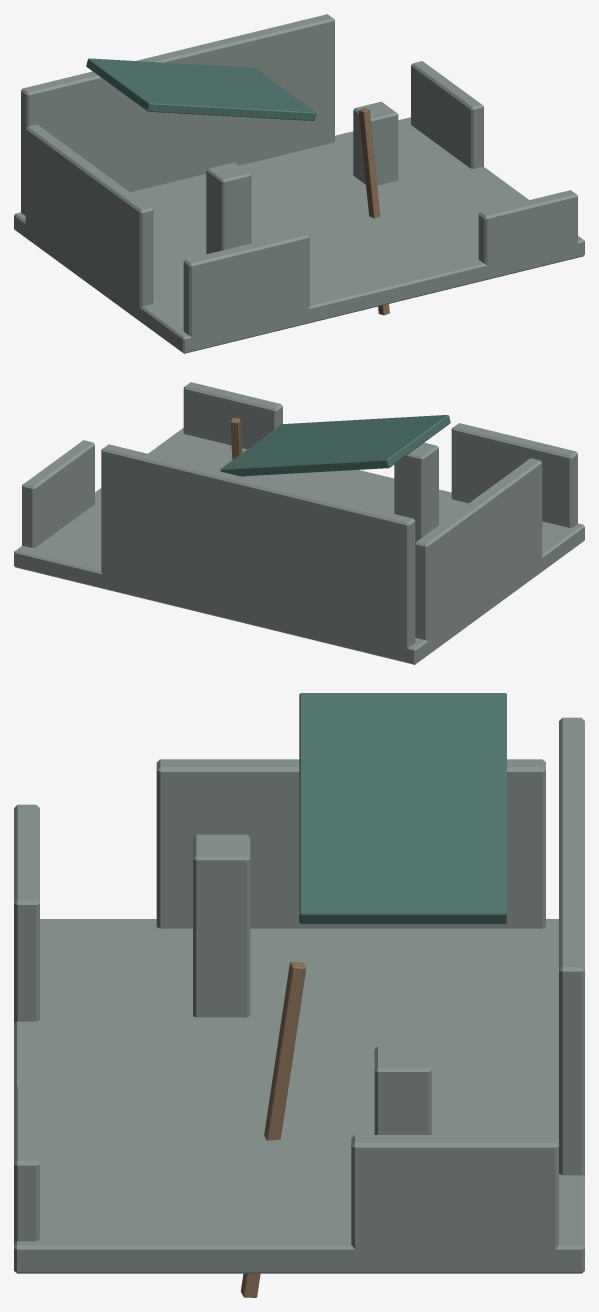
Rendered from LumenRuinedHall.glb.
3 renders of one model, top to bottom at view 1: azimuth 30°, elevation 25°; view 2: azimuth 150°, elevation 25°; view 3: azimuth 270°, elevation 25°, orthographic. The views are drawn at different scales.
Visible parts, largest first — view 1: LumenRuinedHall; view 2: LumenRuinedHall; view 3: LumenRuinedHall.
Boxes of the visible parts, x1,y1,x2,y2 form: LumenRuinedHall: (14,14,584,353); LumenRuinedHall: (14,382,584,664); LumenRuinedHall: (14,693,584,1297).
Bounding box in the file's own units: 30 × 18.03 × 22.
